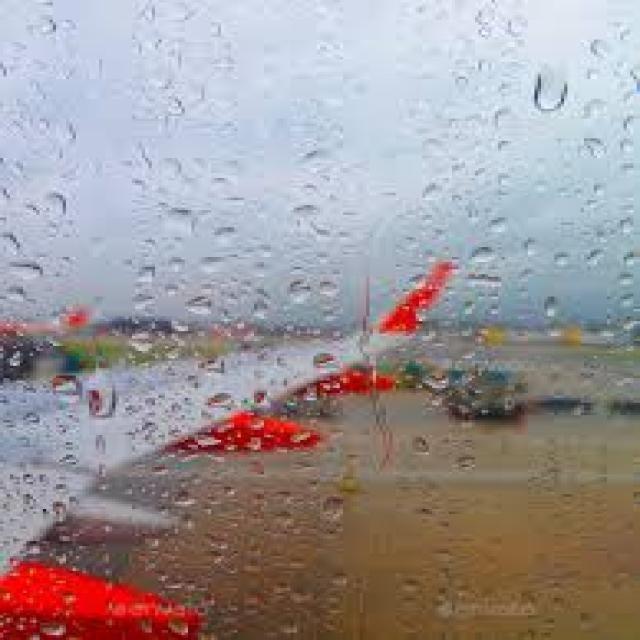raindrop: (526, 59, 578, 118), (144, 198, 210, 244), (82, 378, 128, 426), (44, 362, 92, 406), (38, 188, 82, 226), (1, 258, 52, 290), (463, 237, 508, 271)
